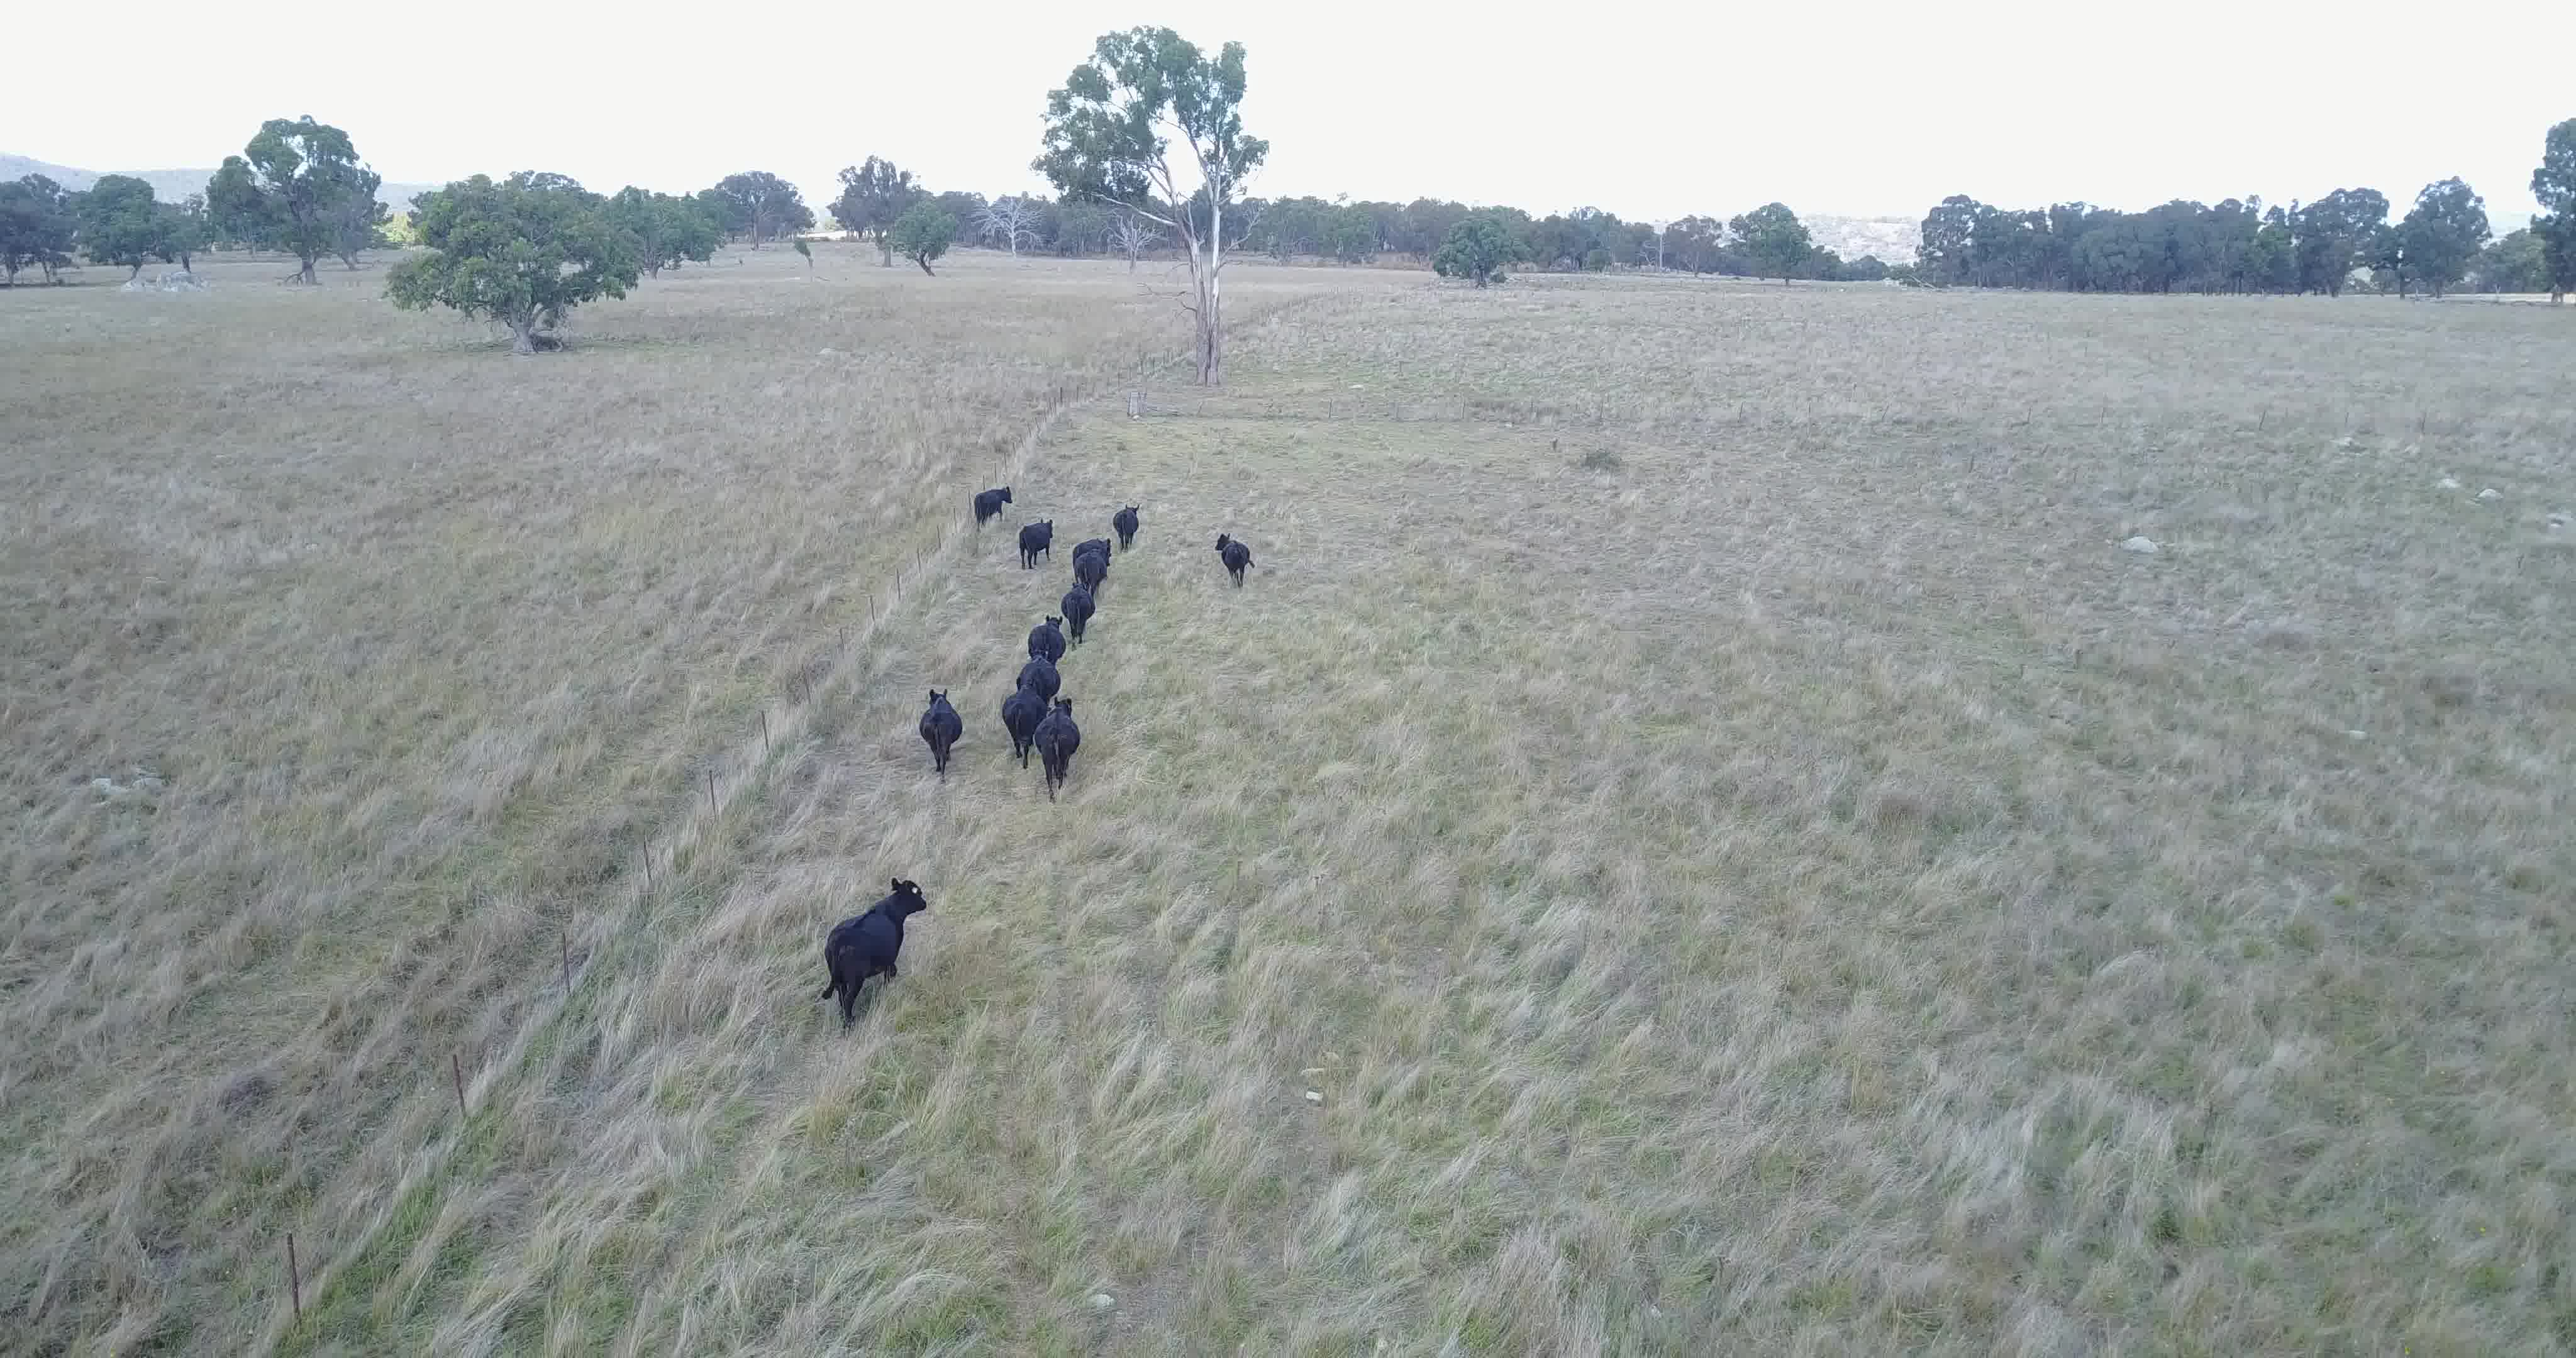cattle: (809, 876, 930, 1034), (1036, 699, 1084, 801), (918, 685, 964, 784), (1002, 678, 1046, 768), (1211, 533, 1257, 595), (964, 480, 1017, 525), (1014, 649, 1061, 697), (1058, 581, 1094, 644), (1017, 516, 1055, 576), (1027, 613, 1067, 665), (1113, 499, 1143, 550), (1075, 550, 1113, 586), (1068, 535, 1111, 559)
